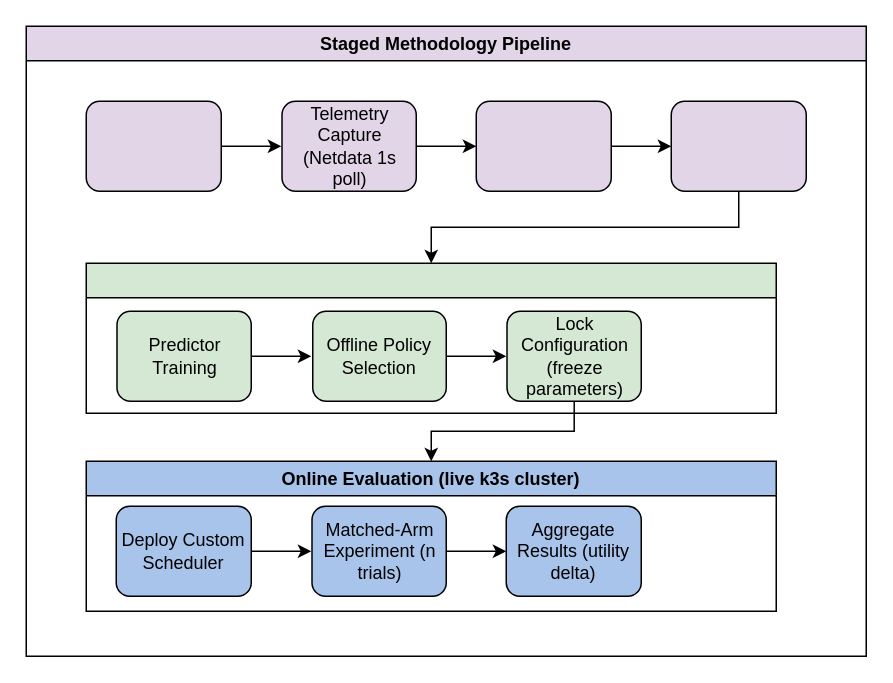
This 893x683 diagram has some shape labels left out. Here are the shapes that lost their labels. From the top down, the box of each, then its label:
(85, 100, 221, 191): Run Generation
(475, 100, 611, 191): Phase Labelling (per-node)
(670, 100, 806, 191): Preprocessing & Features
(85, 262, 776, 413): Development Scope (offline)
